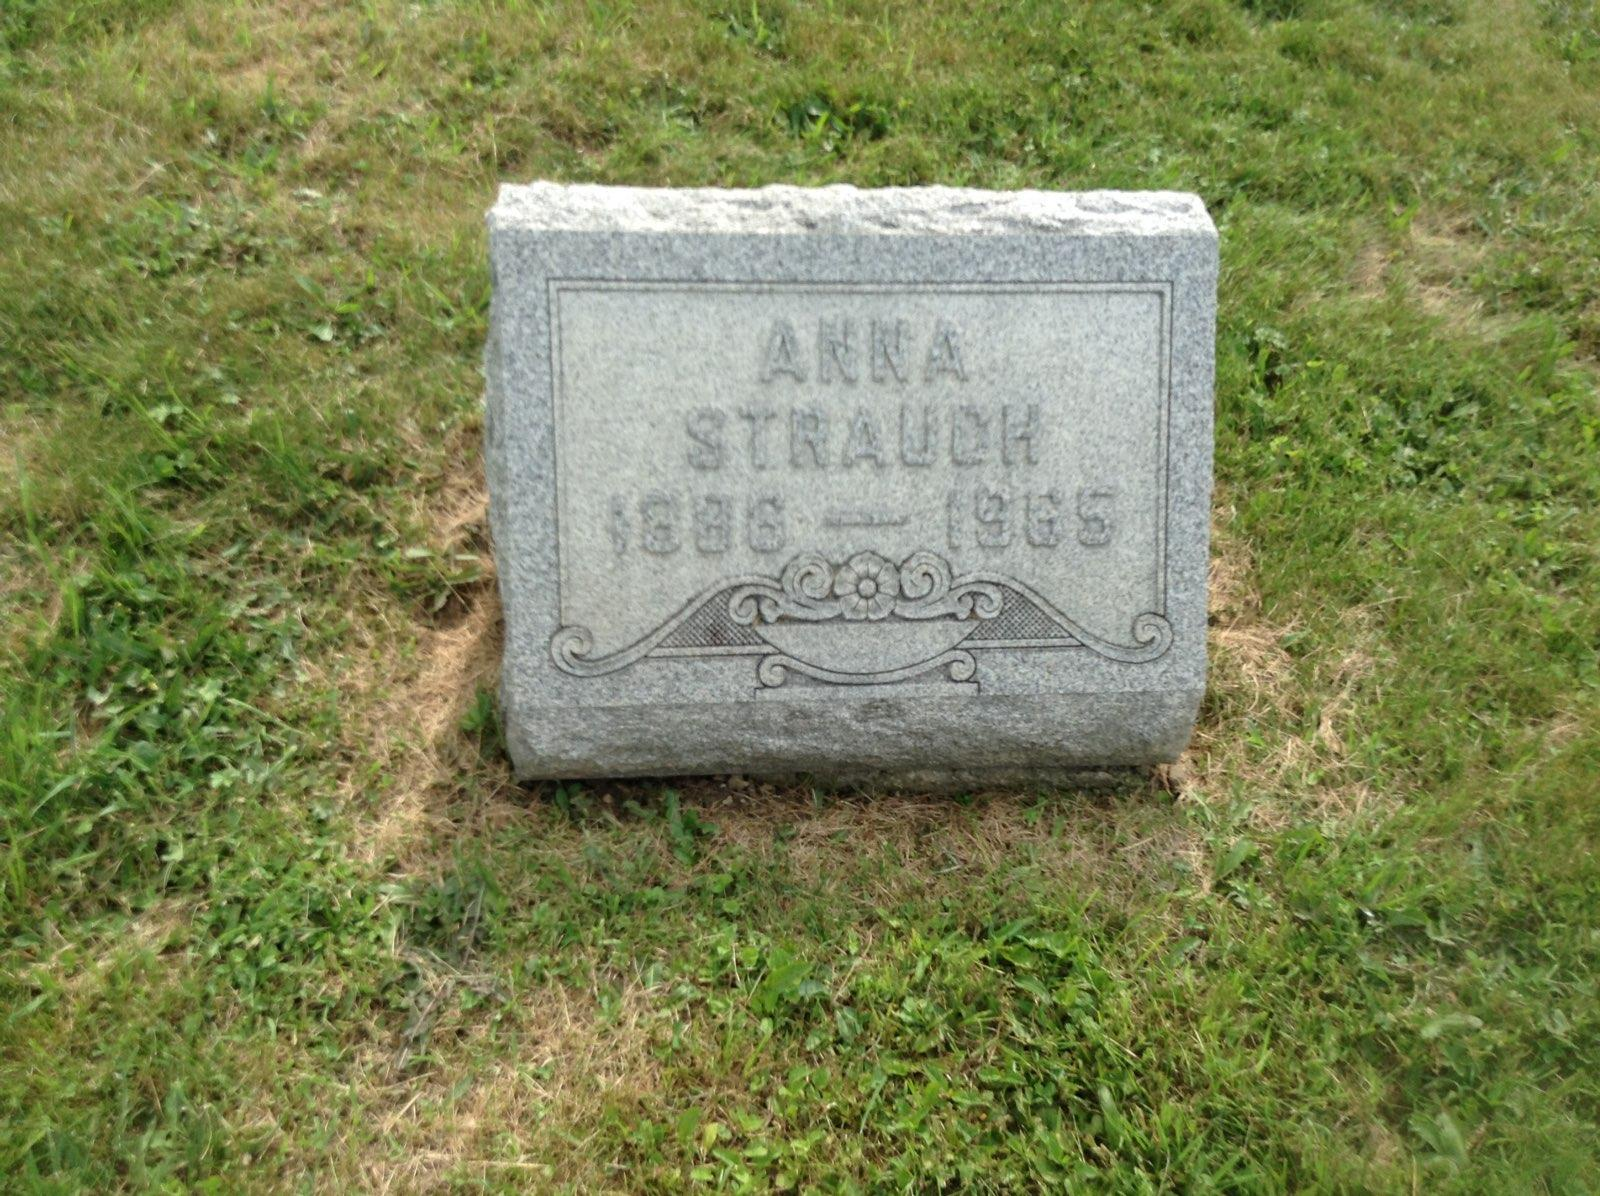upright: (484, 172, 1211, 776)
